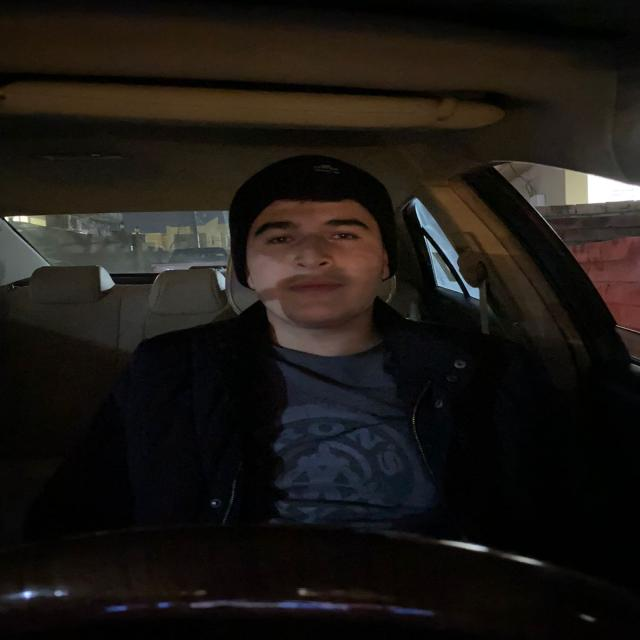person: (222, 154, 403, 334)
